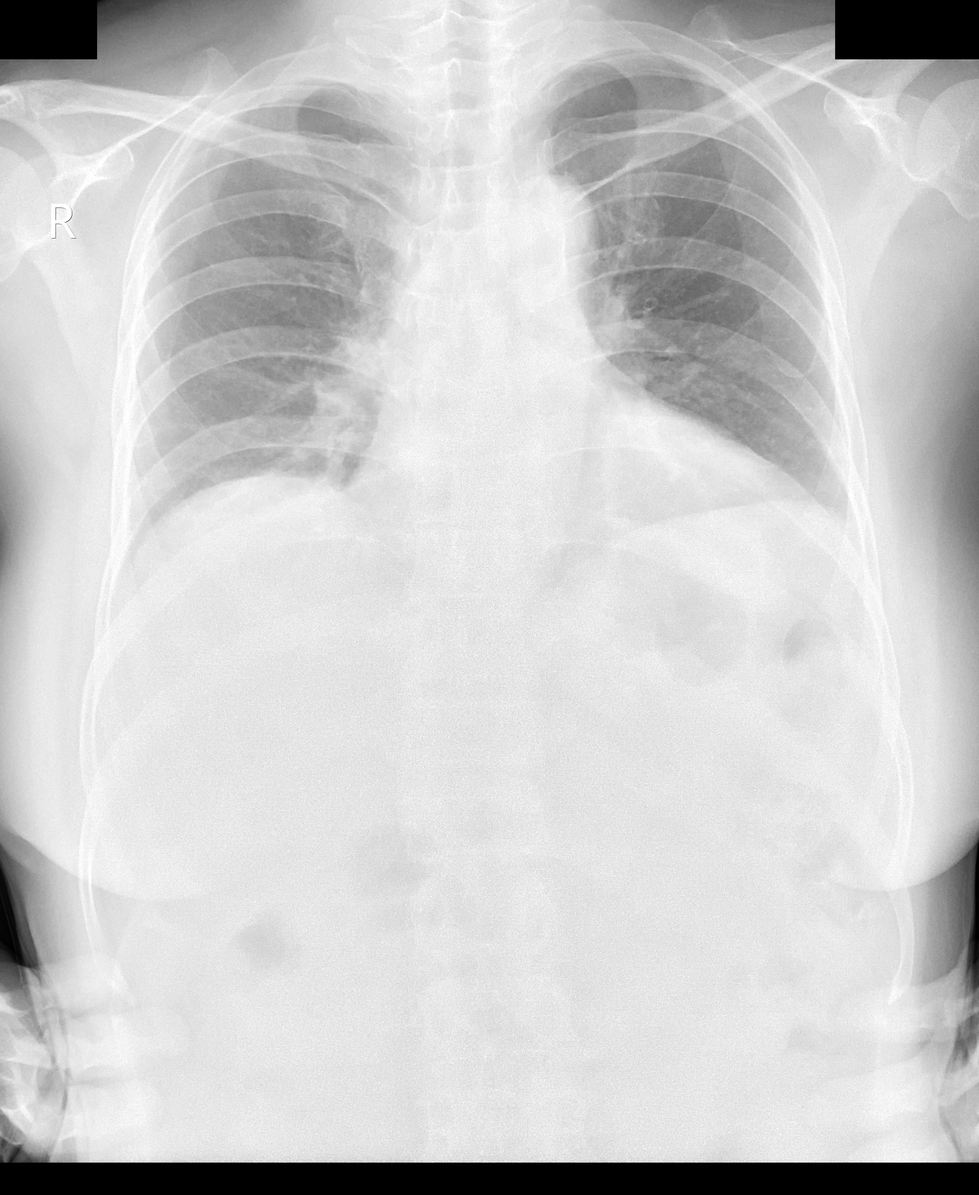Cardiomegaly: (342, 440, 796, 498)
